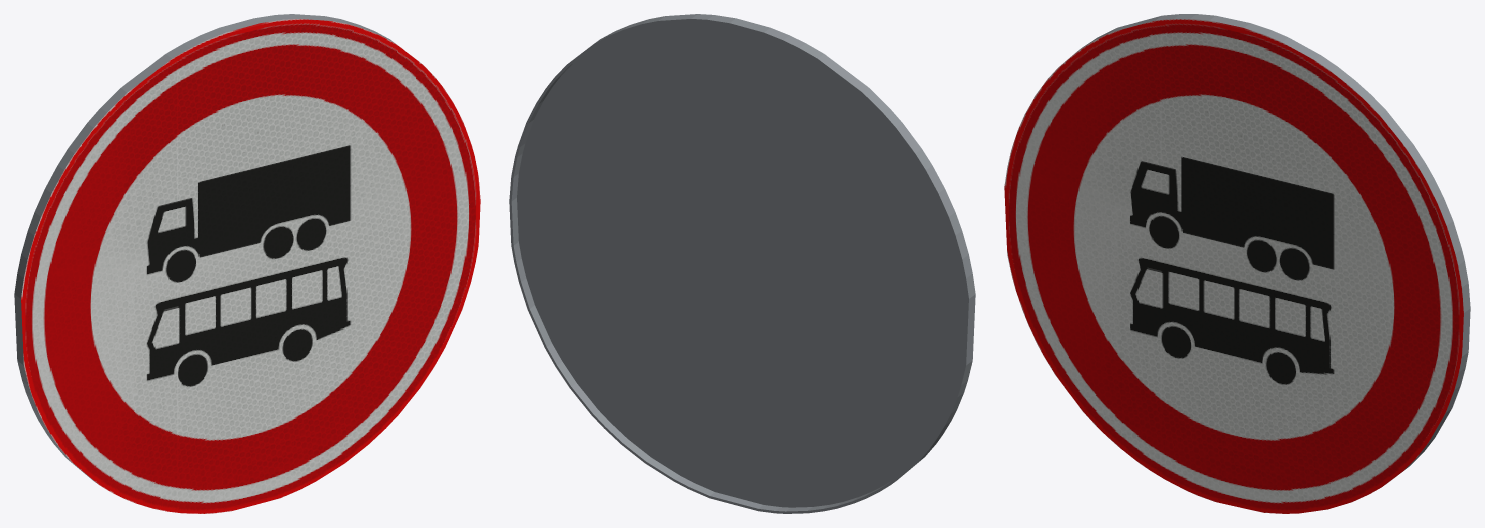
The picture shows the model from 3 angles, left to right: view 1: azimuth 30°, elevation 25°; view 2: azimuth 150°, elevation 25°; view 3: azimuth 330°, elevation 25°; orthographic projection.
Parts seen in each view (by area): view 1: cat_b31d7d93dbfc528d; view 2: cat_b31d7d93dbfc528d; view 3: cat_b31d7d93dbfc528d.
Part boxes in pixels (box(x1,y1,x2,y2)): cat_b31d7d93dbfc528d: box(14, 14, 480, 513); cat_b31d7d93dbfc528d: box(509, 14, 975, 513); cat_b31d7d93dbfc528d: box(1004, 14, 1470, 513).
Bounding box in the file's own units: 0.6 × 0.015 × 0.6.
Materials: 2 (1 with a texture image).
